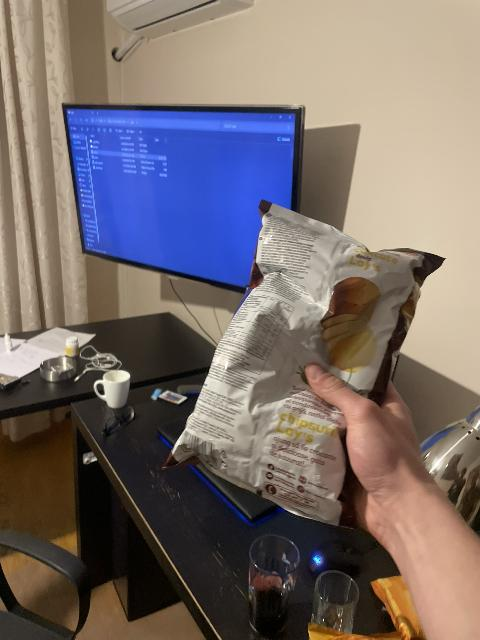Lays Beef Grilled Ribs 125g: (160, 196, 437, 524)
